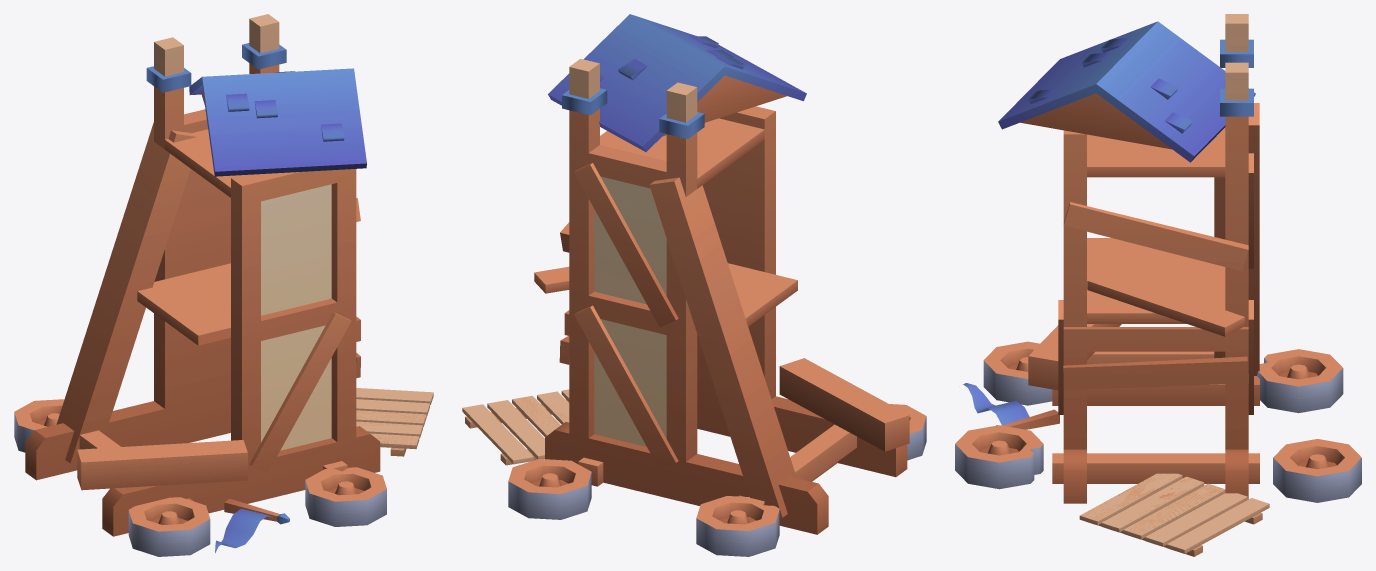
The model's file is siege-tower-demolished.glb.
3 renders of one model, left to right at view 1: azimuth 30°, elevation 25°; view 2: azimuth 150°, elevation 25°; view 3: azimuth 270°, elevation 25°, orthographic. The views are drawn at different scales.
Visible parts, largest first — view 1: siege-tower-demolished; view 2: siege-tower-demolished; view 3: siege-tower-demolished.
Part boxes in pixels (bbox=[...]): siege-tower-demolished: bbox=[14, 14, 433, 556]; siege-tower-demolished: bbox=[462, 14, 926, 556]; siege-tower-demolished: bbox=[955, 14, 1361, 556].
Bounding box in the file's own units: 2.17 × 2.1 × 1.85.
1 material, 1 textured.
